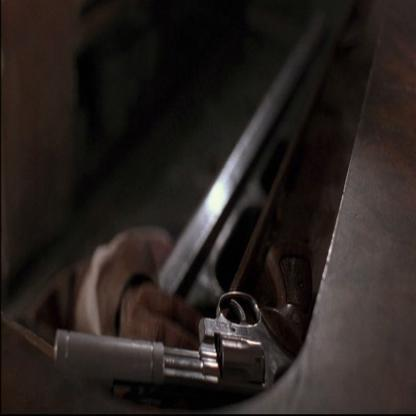gun: (40, 311, 295, 409)
